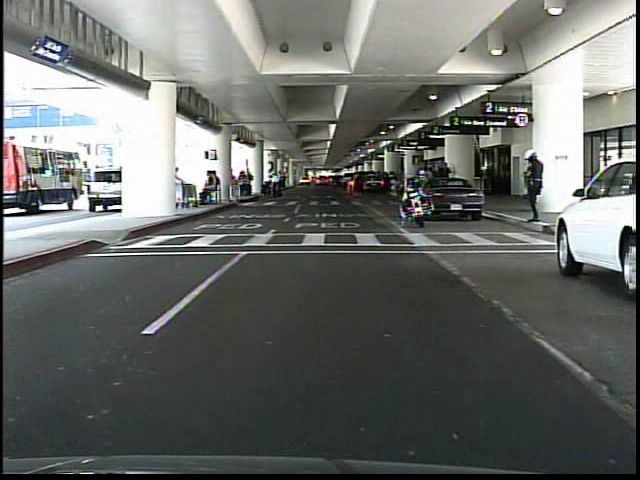person: (519, 148, 549, 227)
